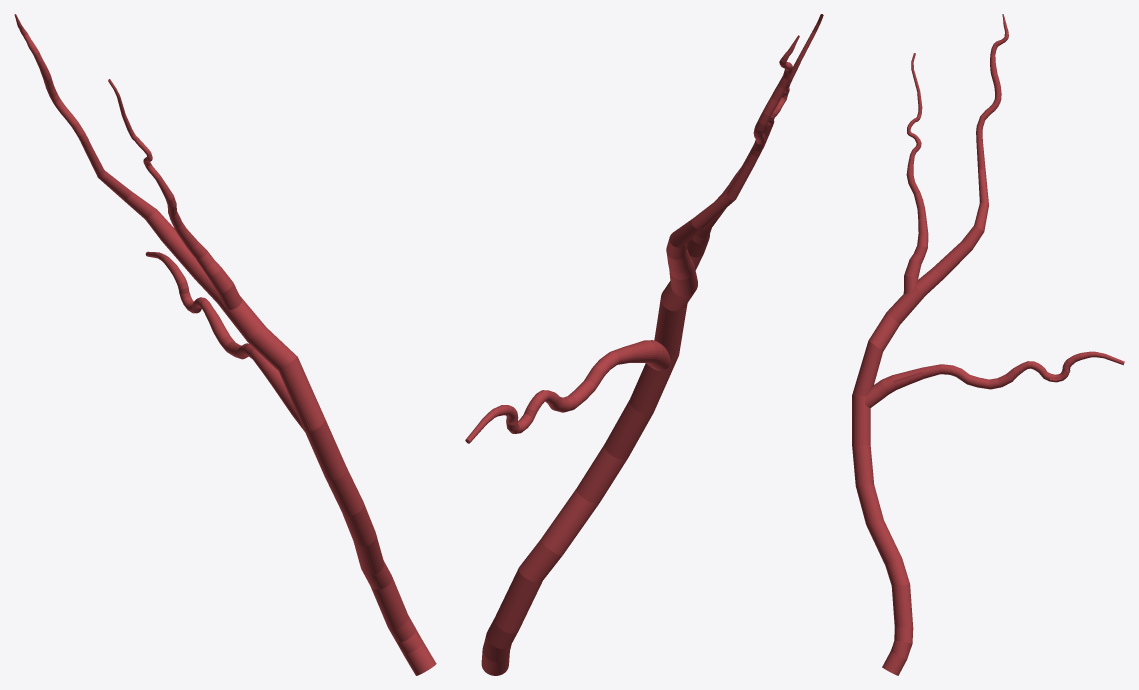
File: A_L_Lingual_artery.fbx
3 views of the same model, side by side, from view 1: azimuth 30°, elevation 25°; view 2: azimuth 150°, elevation 25°; view 3: azimuth 270°, elevation 25° (orthographic). The views are drawn at different scales.
Visible parts, largest first — view 1: A_L_Lingual_Artery; view 2: A_L_Lingual_Artery; view 3: A_L_Lingual_Artery.
Part boxes in pixels (<box>): A_L_Lingual_Artery: <box>14,14,436,675</box>; A_L_Lingual_Artery: <box>465,14,823,675</box>; A_L_Lingual_Artery: <box>852,14,1124,675</box>.
Bounding box in the file's own units: 11707 × 22169 × 10249.
